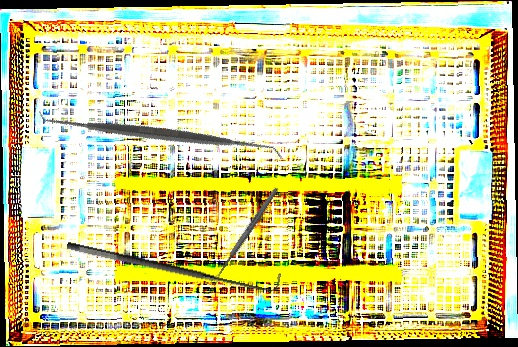Hook Surgical: (65, 225, 282, 301)
Spatula Surgical: (38, 13, 283, 256)
Surgical Spoon: (209, 185, 280, 287)
